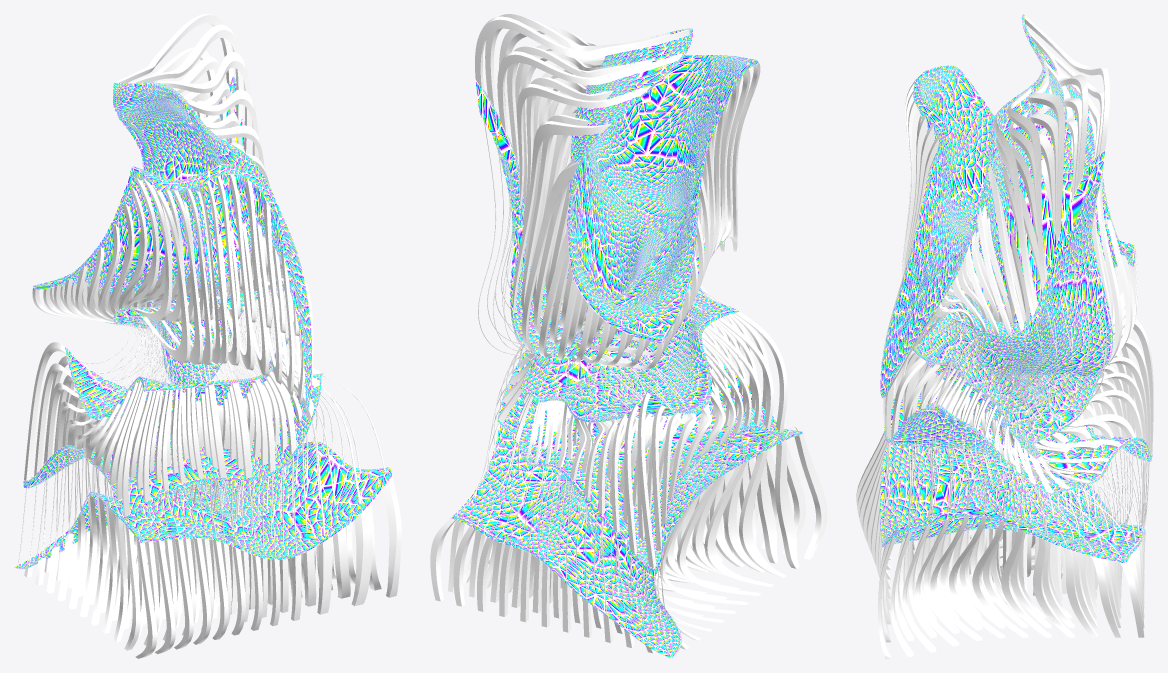
File: chromiebridgeauralsection-alien3-v138.glb
The picture shows the model from 3 angles, left to right: view 1: azimuth 30°, elevation 25°; view 2: azimuth 150°, elevation 25°; view 3: azimuth 270°, elevation 25°; orthographic projection. The views are drawn at different scales.
Parts seen in each view (by area): view 1: Merged Objects 4, Merged Objects 6; view 2: Merged Objects 4, Merged Objects 6; view 3: Merged Objects 4, Merged Objects 6.
Part boxes in pixels (x1,y1,x2,y2): Merged Objects 4: [17, 14, 401, 658]; Merged Objects 6: [14, 75, 392, 569]; Merged Objects 4: [430, 14, 827, 656]; Merged Objects 6: [450, 28, 803, 658]; Merged Objects 4: [856, 16, 1153, 658]; Merged Objects 6: [880, 14, 1152, 563].
Size of the model in its own units: 5.42 by 10.43 by 5.18.
2 materials, 1 textured.
